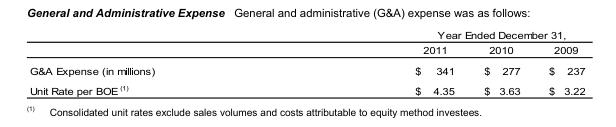table: (29, 29, 584, 96)
table column: (29, 29, 284, 96), (284, 29, 468, 96), (468, 29, 533, 96), (533, 29, 584, 96)
table column header: (29, 29, 584, 60)
table row: (29, 60, 584, 80), (29, 42, 584, 60), (29, 80, 584, 96), (29, 29, 584, 42)
table spanning cell: (284, 29, 584, 42)
